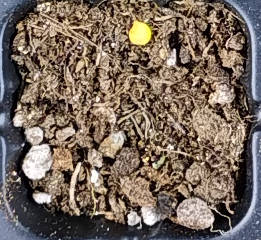pepper seed: (52, 0, 204, 42)
